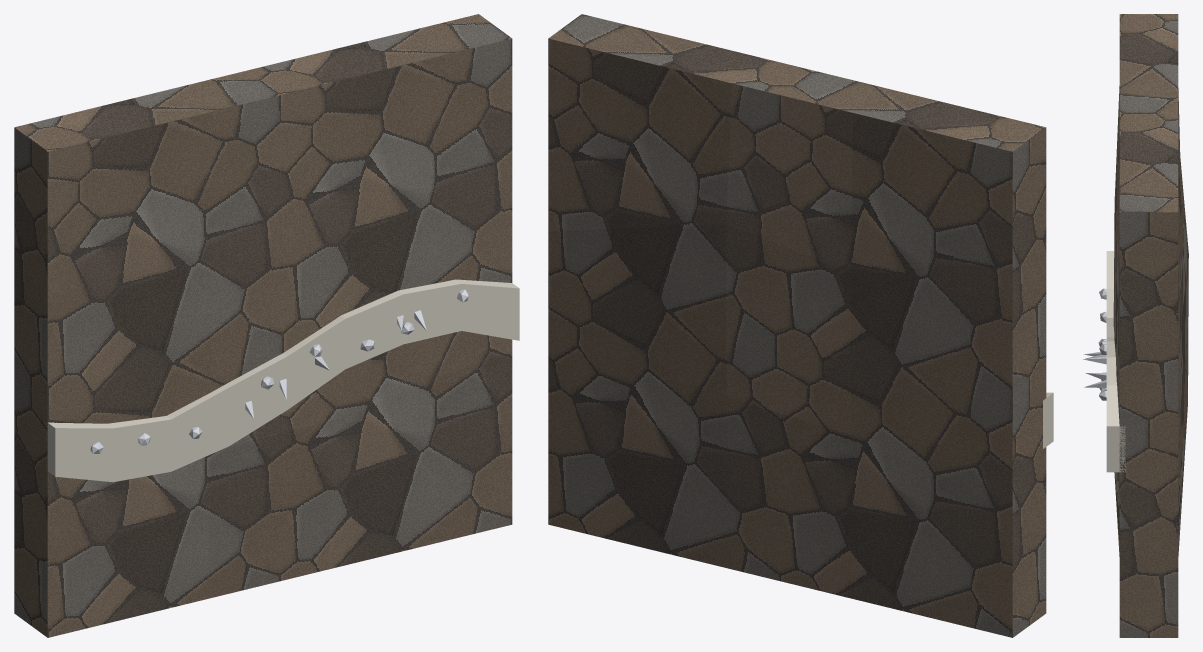
File: mine_wall_silver.glb
The picture shows the model from 3 angles, left to right: view 1: azimuth 30°, elevation 25°; view 2: azimuth 150°, elevation 25°; view 3: azimuth 270°, elevation 25°; orthographic projection. The views are drawn at different scales.
Parts seen in each view (by area): view 1: mine_wall_silver; view 2: mine_wall_silver; view 3: mine_wall_silver.
Boxes of the visible parts, <box> form: mine_wall_silver: <box>14,14,519,637</box>; mine_wall_silver: <box>548,14,1053,637</box>; mine_wall_silver: <box>1083,14,1188,637</box>.
Size of the model in its own units: 4 by 4 by 0.9091.
3 materials, 1 textured.
